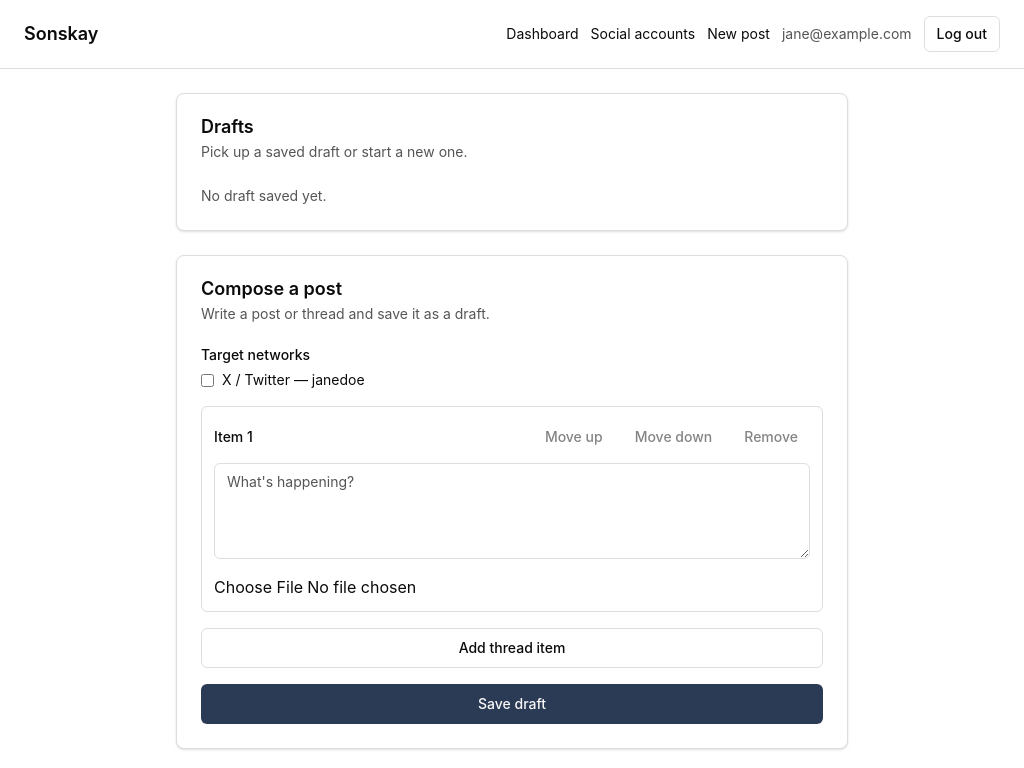
it: post composer page › saves a draft with the entered text and selected account
Click the checkbox: [208, 380] box [201,374,214,386]
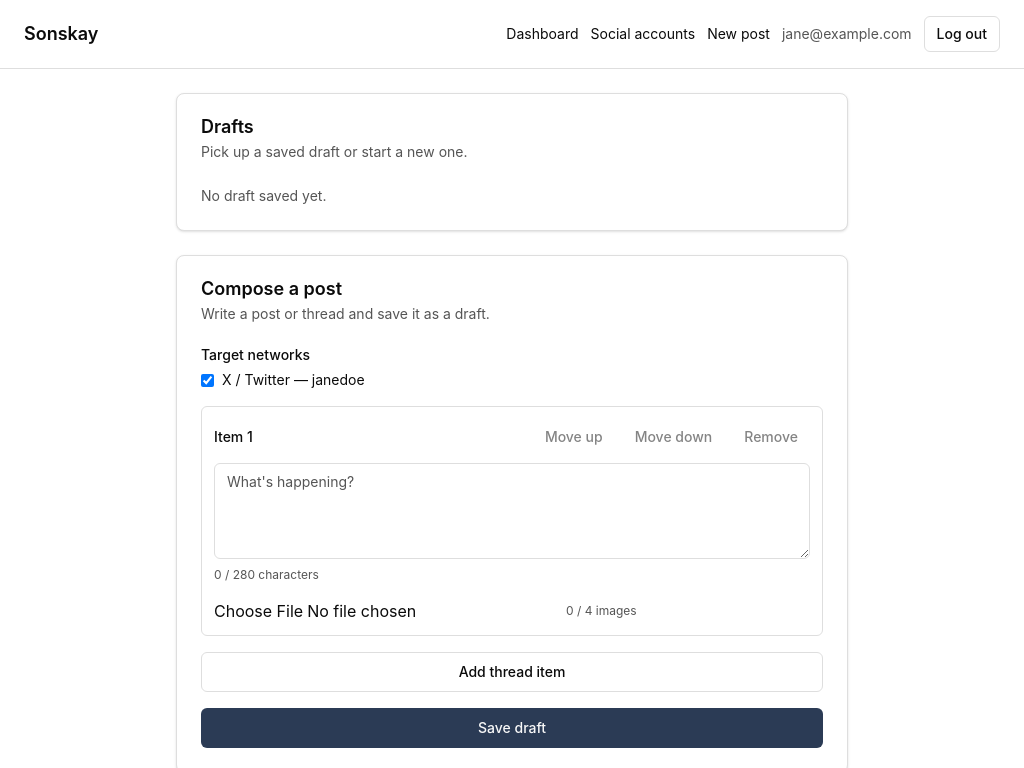
In the text box with placeholder "What's happening?": [512, 511] box [214,463,810,559], type "Hello world"
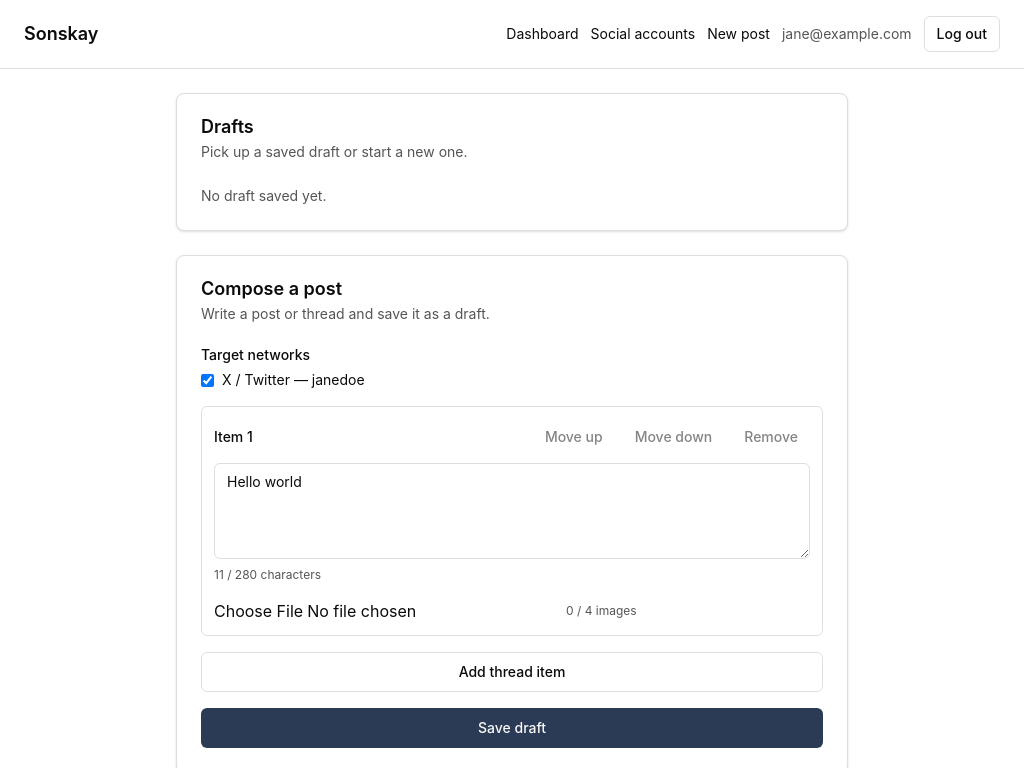
Click the button "Save draft": [512, 728] box [201,708,823,748]
(page scrolled)
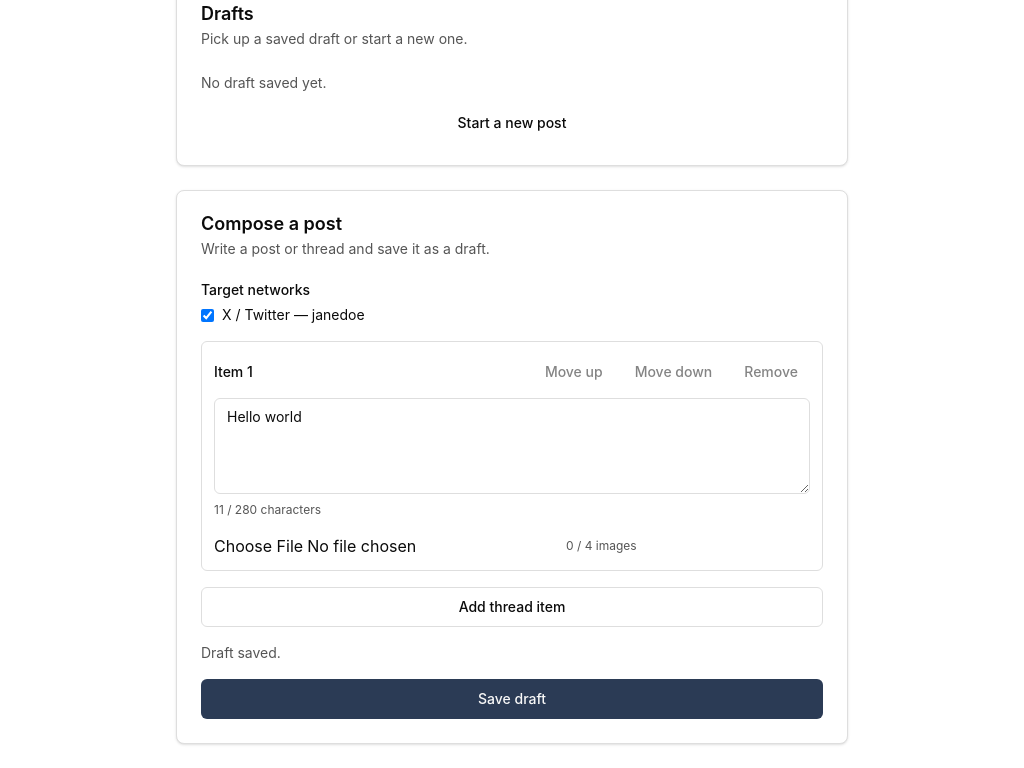
expect the text "Draft saved." is shown: met, box [201,644,281,661]
